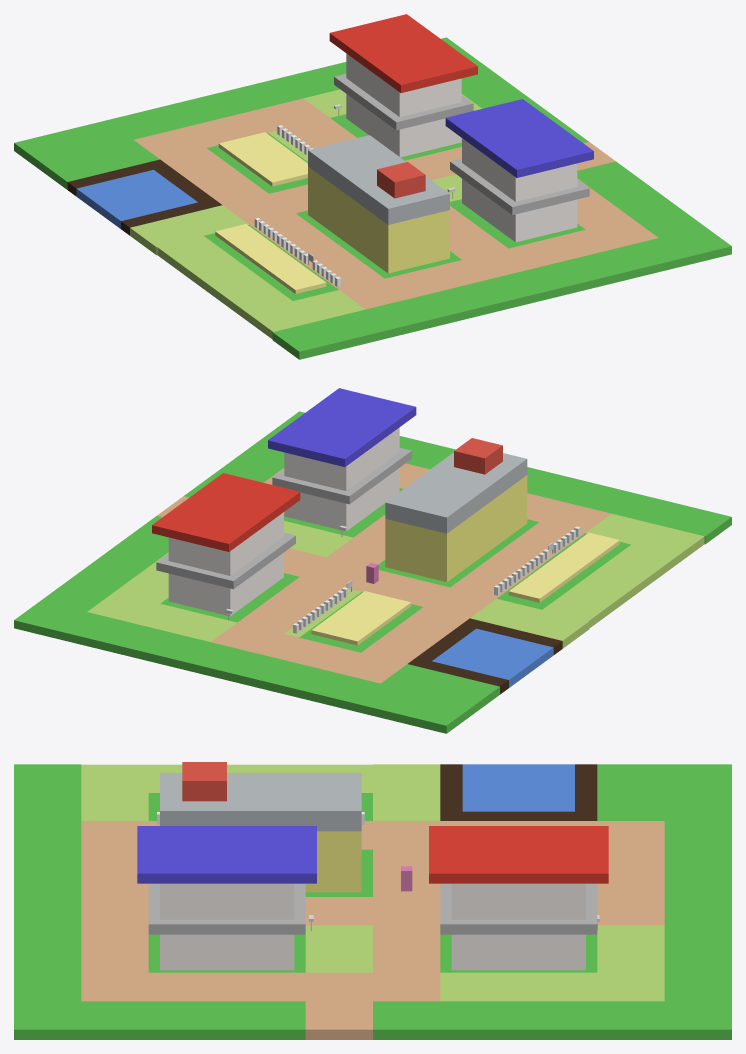
File: Pallet-Blocagem.fbx
The picture shows the model from 3 angles, top to bottom: view 1: azimuth 30°, elevation 25°; view 2: azimuth 150°, elevation 25°; view 3: azimuth 270°, elevation 25°; orthographic projection. The views are drawn at different scales.
Parts seen in each view (by area): view 1: Chão, Casa Blue, Casa Red, Laboratório, Costa, Flores2, Flores1, Cerca; view 2: Chão, Casa Red, Laboratório, Casa Blue, Costa, Flores2, Flores1, Cerca, Cerca 2; view 3: Chão, Casa Blue, Casa Red, Laboratório, Costa.
Boxes of the visible parts, x1,y1,x2,y2 form: Chão: (14,37,731,359); Casa Blue: (445,99,593,242); Casa Red: (329,14,477,157); Laboratório: (308,135,449,273); Costa: (67,159,222,235); Flores2: (215,224,326,293); Flores1: (218,132,307,186); Cerca: (254,217,340,286); Chão: (14,411,731,733); Casa Red: (152,473,300,616); Laboratório: (385,438,527,581); Casa Blue: (268,388,416,531); Costa: (408,618,562,694); Flores2: (508,532,619,602); Flores1: (311,591,411,645); Cerca: (494,526,580,595); Cerca 2: (293,587,347,633); Chão: (14,764,731,1039); Casa Blue: (137,826,316,970); Casa Red: (429,826,608,970); Laboratório: (160,762,361,892); Costa: (440,764,597,820).
Bounding box in the file's own units: 11200 × 2200 × 12800.
